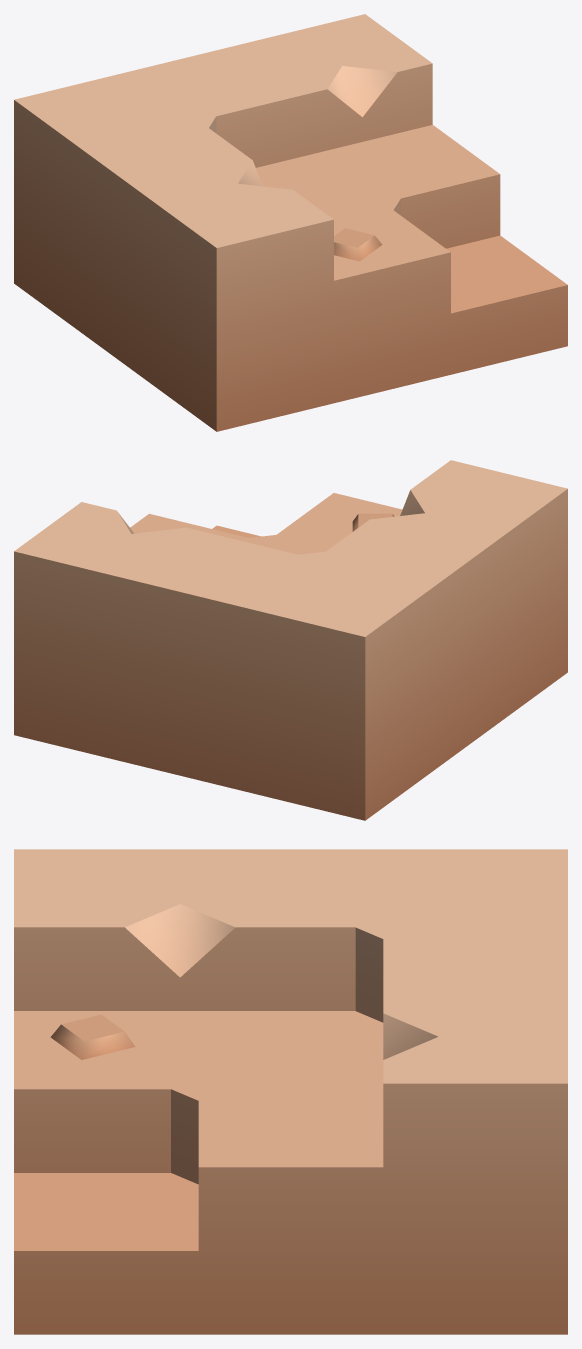
File: stairs-corner-inner.glb
The picture shows the model from 3 angles, top to bottom: view 1: azimuth 30°, elevation 25°; view 2: azimuth 150°, elevation 25°; view 3: azimuth 270°, elevation 25°; orthographic projection. The views are drawn at different scales.
Visible parts, largest first — view 1: stairs-corner-inner; view 2: stairs-corner-inner; view 3: stairs-corner-inner.
Boxes of the visible parts, x1=… form: stairs-corner-inner: x1=14, y1=14, x2=567, y2=431; stairs-corner-inner: x1=14, y1=460, x2=567, y2=820; stairs-corner-inner: x1=14, y1=849, x2=567, y2=1334.
Bounding box in the file's own units: 1 × 0.5 × 1.
1 material, 1 textured.
